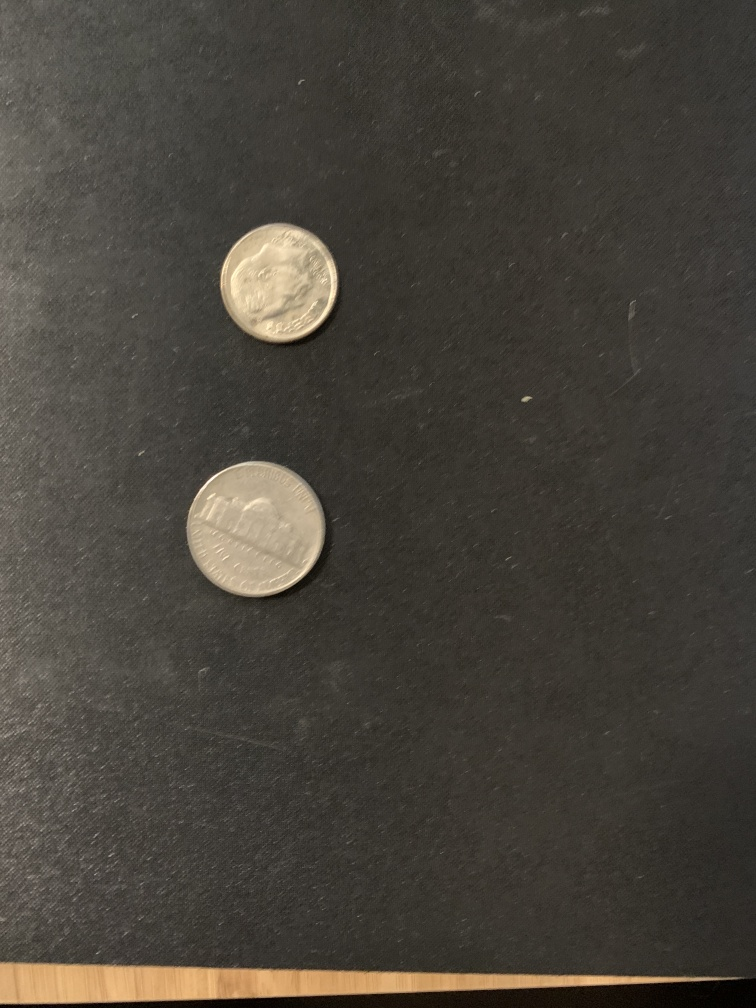dime: (214, 216, 344, 349)
nickel: (182, 456, 333, 602)
